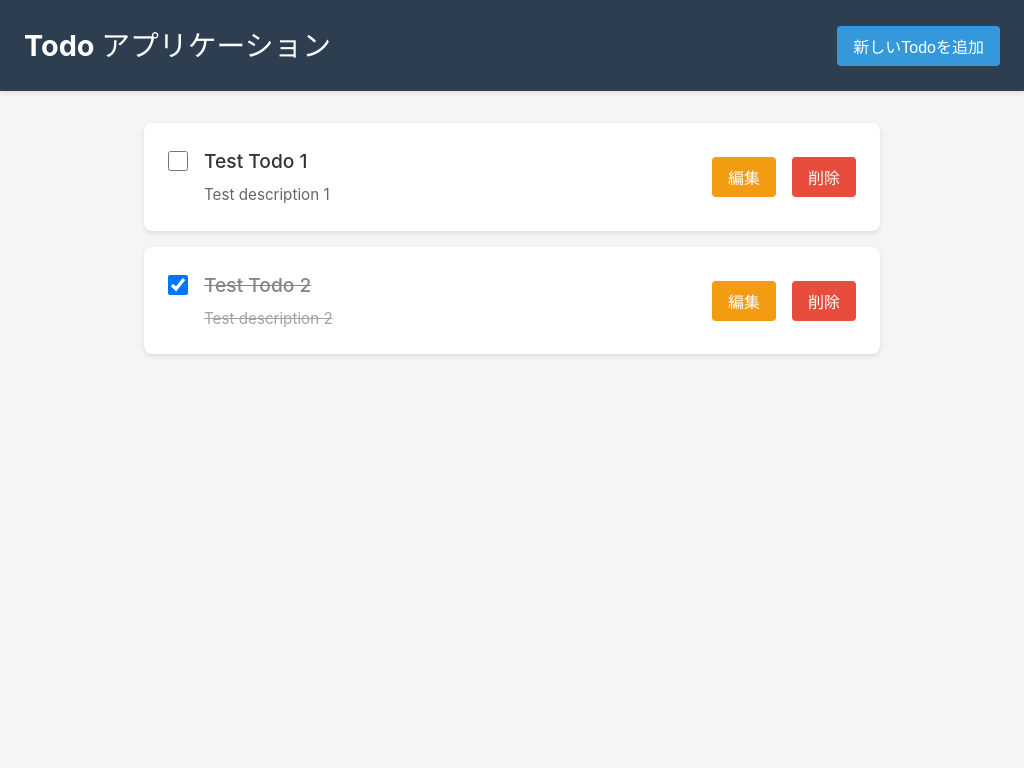
Scenario: App › opens form when add button is clicked
The width and height of the screenshot is (1024, 768).
Step 1. Click the button "新しいTodoを追加" → (919, 46), box [837,26,1000,66]
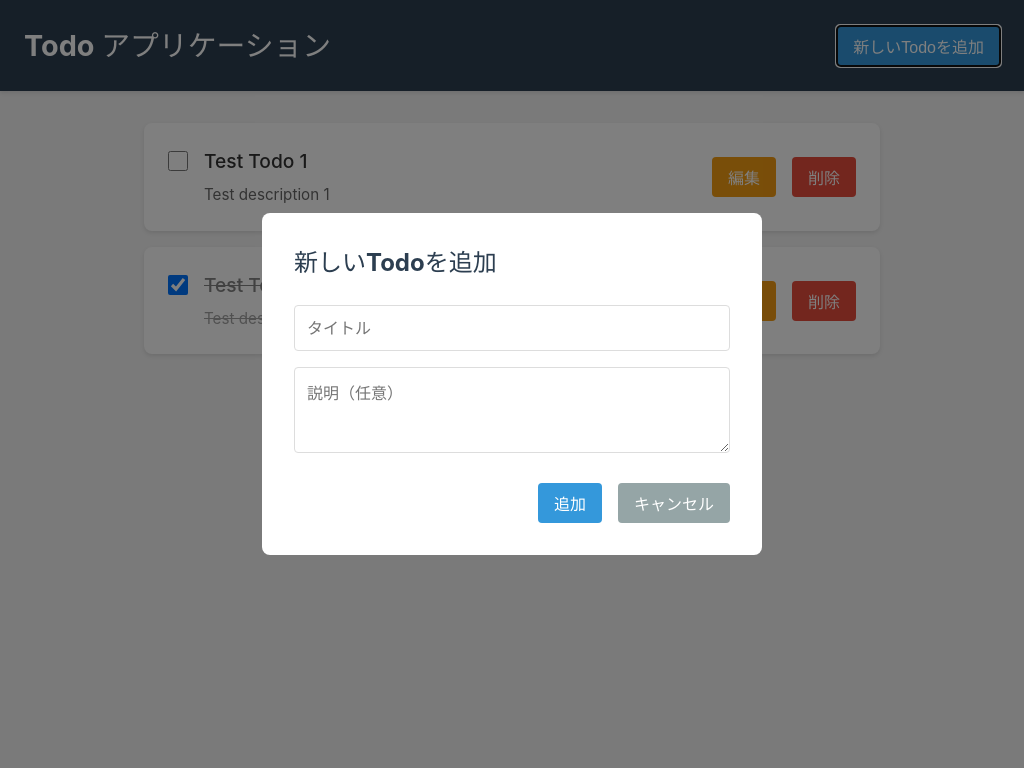
Check: the field with placeholder "タイトル" is shown, box [294,305,730,351]
